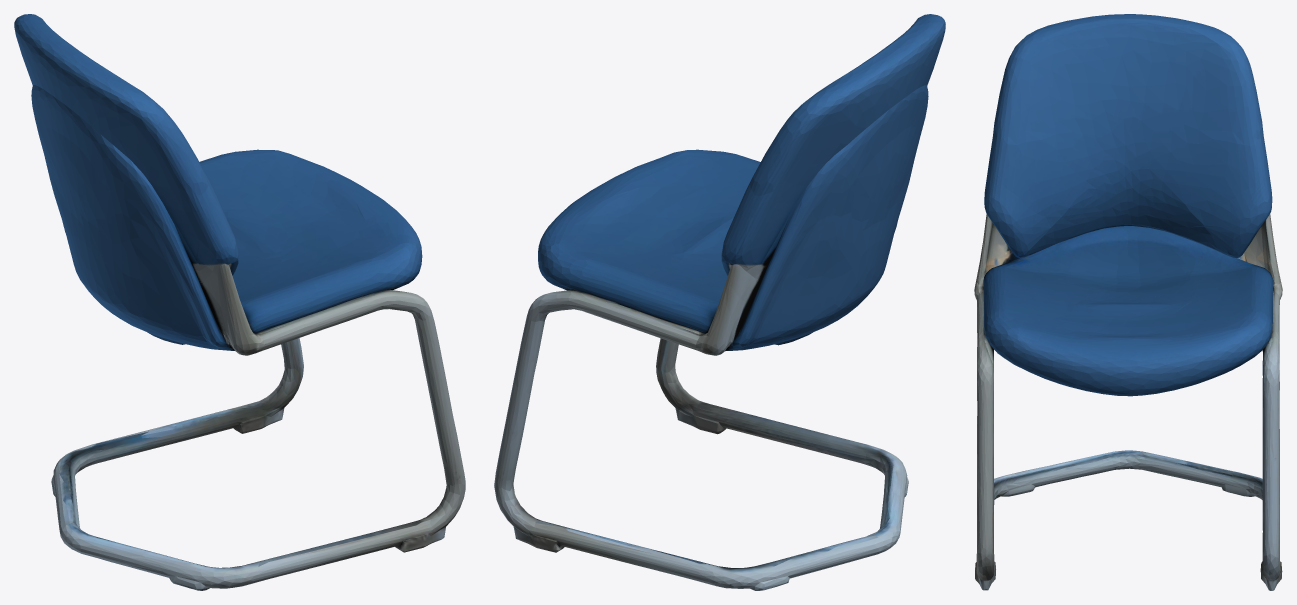
Rendered from AIchair.glb.
The picture shows the model from 3 angles, left to right: view 1: azimuth 30°, elevation 25°; view 2: azimuth 150°, elevation 25°; view 3: azimuth 270°, elevation 25°; orthographic projection. The views are drawn at different scales.
Parts seen in each view (by area): view 1: tripo_node_f21f5477-900d-4f39-a3f7-c79e0fbe7e33; view 2: tripo_node_f21f5477-900d-4f39-a3f7-c79e0fbe7e33; view 3: tripo_node_f21f5477-900d-4f39-a3f7-c79e0fbe7e33.
Boxes of the visible parts, x1,y1,x2,y2 form: tripo_node_f21f5477-900d-4f39-a3f7-c79e0fbe7e33: (14,14,465,590); tripo_node_f21f5477-900d-4f39-a3f7-c79e0fbe7e33: (494,14,945,590); tripo_node_f21f5477-900d-4f39-a3f7-c79e0fbe7e33: (974,14,1282,590).
Size of the model in its own units: 0.7048 by 0.9998 by 0.6234.
1 material, 1 textured.
